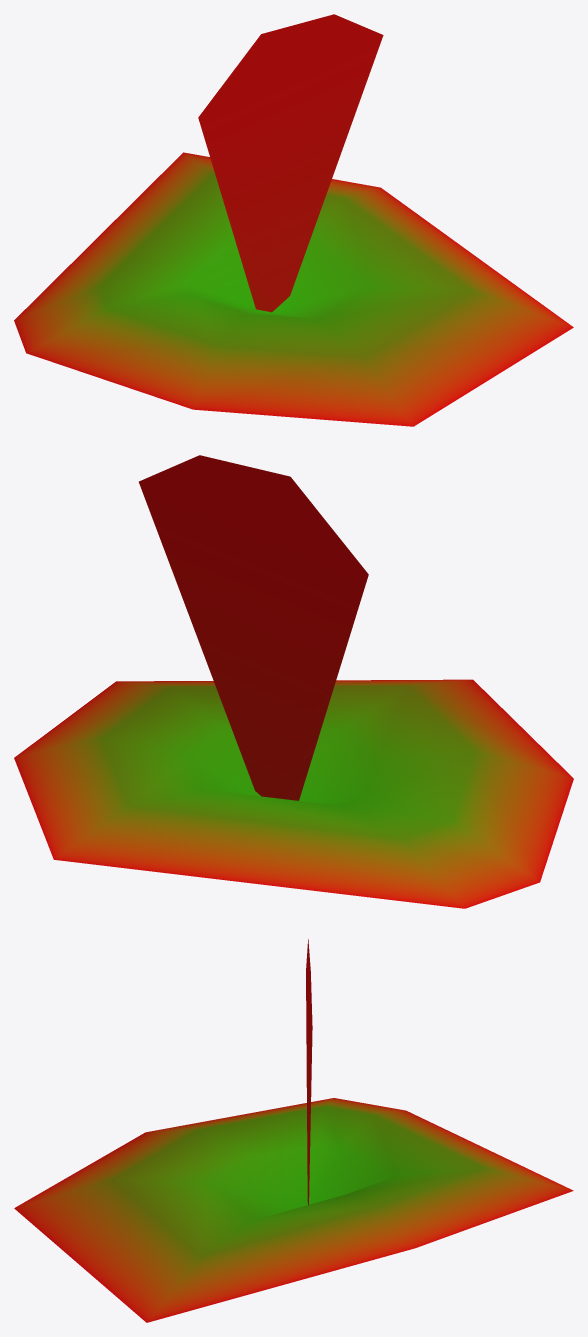
File: Cape Weed_LOD4_Var1_tjmhfcyia.fbx
3 views of the same model, one above another, from view 1: azimuth 30°, elevation 25°; view 2: azimuth 150°, elevation 25°; view 3: azimuth 270°, elevation 25° (orthographic). The views are drawn at different scales.
Visible parts, largest first — view 1: _3575_Var1_LOD4; view 2: _3575_Var1_LOD4; view 3: _3575_Var1_LOD4.
Part boxes in pixels (x1=…): _3575_Var1_LOD4: x1=14, y1=14, x2=573, y2=426; _3575_Var1_LOD4: x1=14, y1=455, x2=573, y2=908; _3575_Var1_LOD4: x1=14, y1=939, x2=573, y2=1322.
Bounding box in the file's own units: 45.31 × 28.29 × 50.5.
